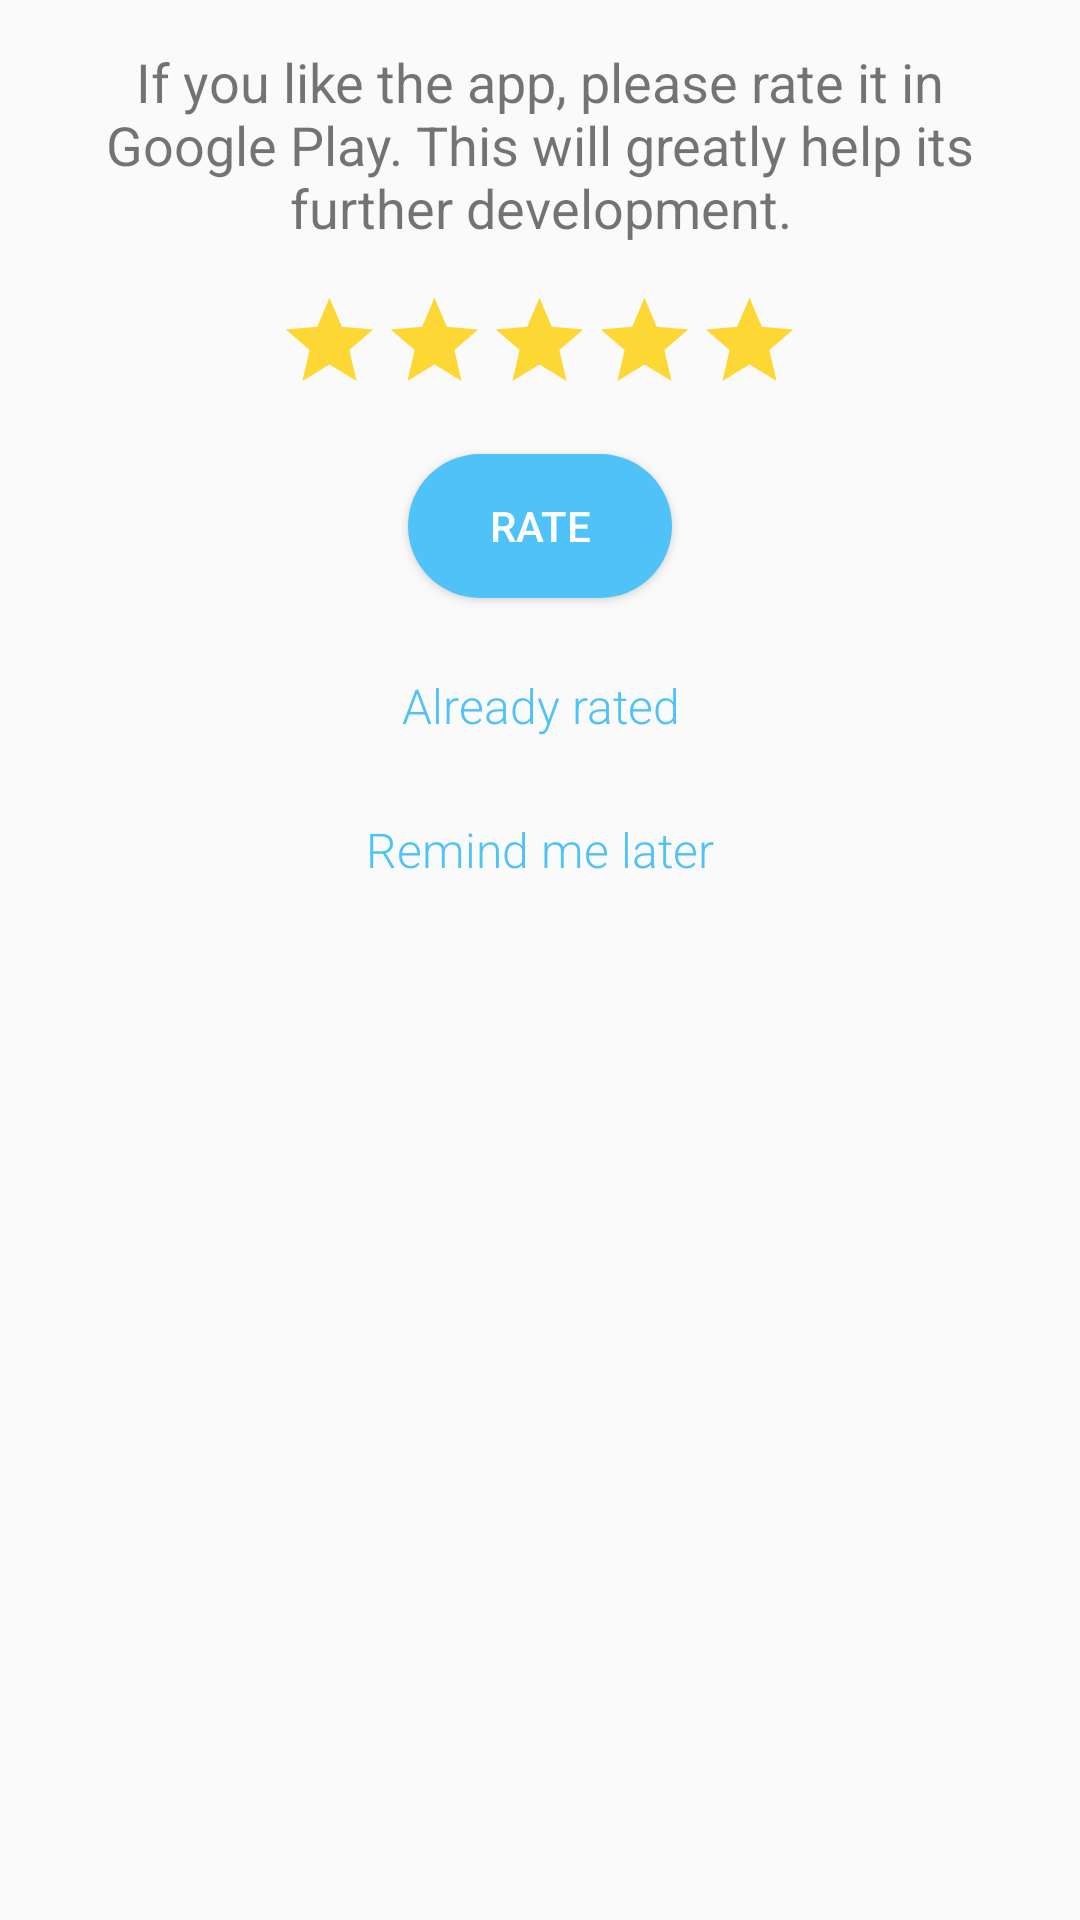

Icons on this 1080w x 1920h Android screen, each with its box as (x1, y1, x2, y2):
star gold: (286, 298, 373, 381), (391, 298, 478, 381), (496, 298, 583, 381), (601, 298, 688, 381), (706, 298, 793, 381)
